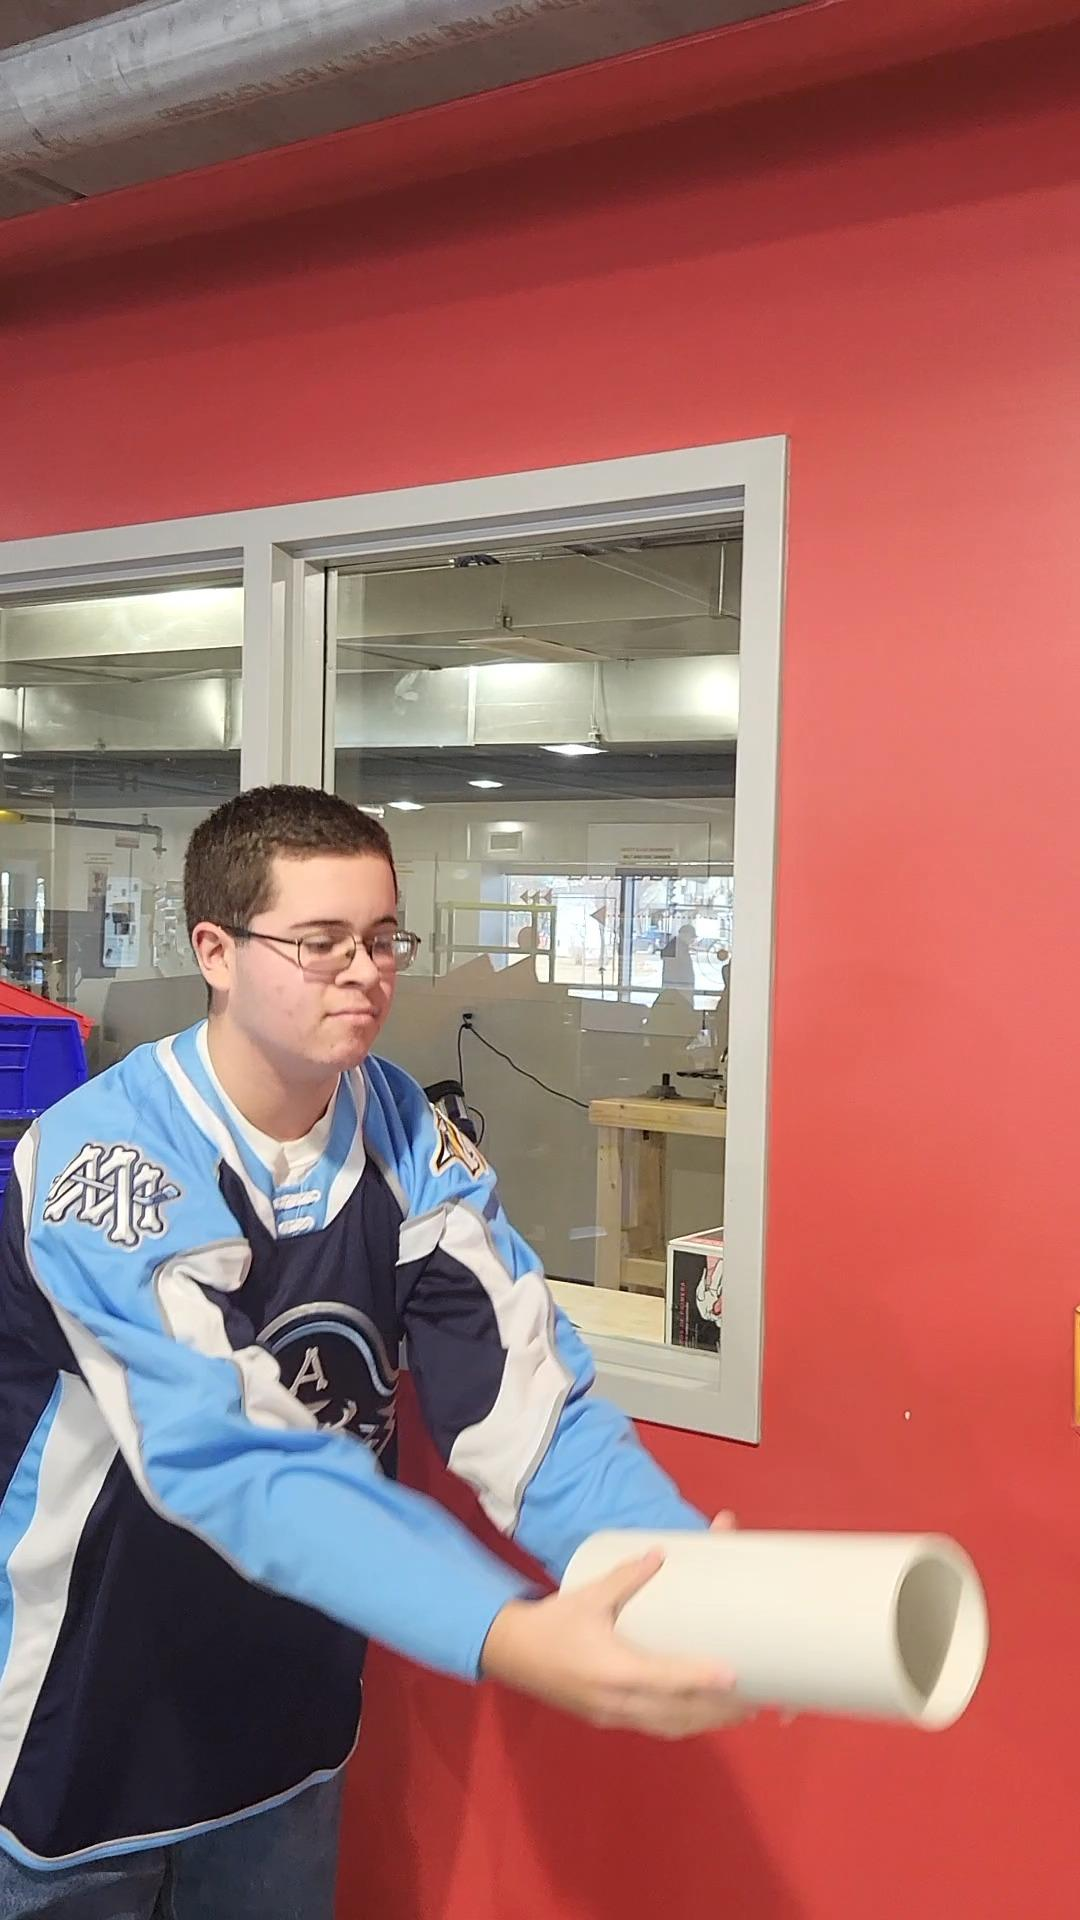coral: (560, 1524, 1000, 1733)
